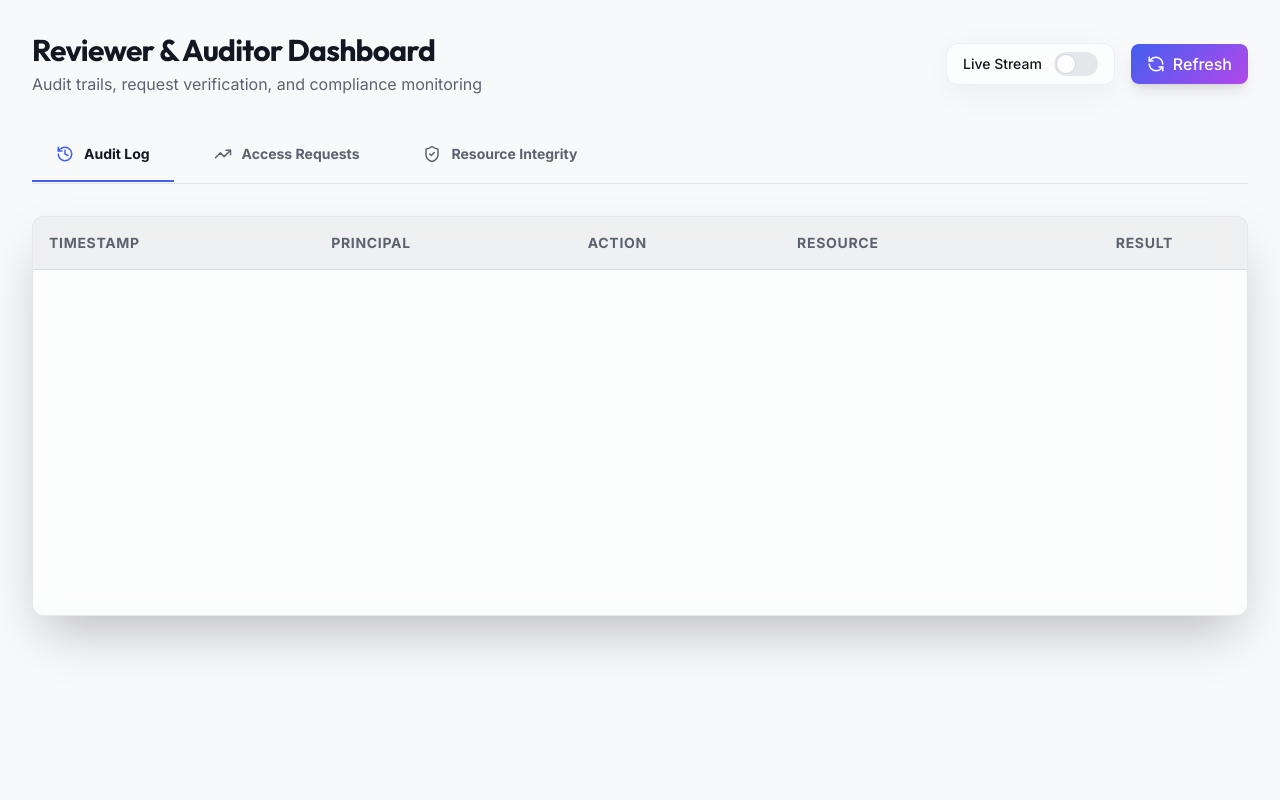
Test: ReviewerDashboard › updates audit logs via stream
Note: Enable live
Click the checkbox.
click(1076, 64)  # box top-left (1054, 52), bottom-right (1098, 76)
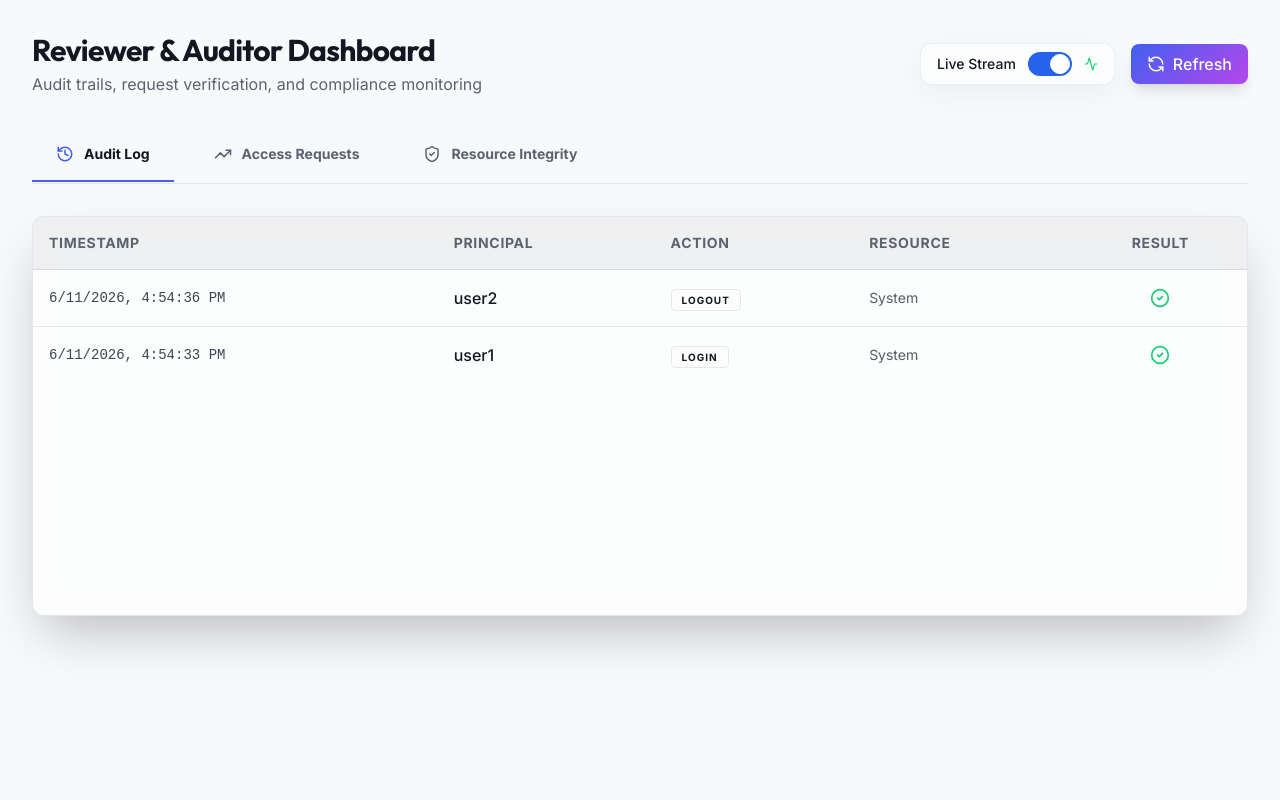
Check: the text "LOGOUT" is shown, box top-left (671, 289), bottom-right (741, 311)
